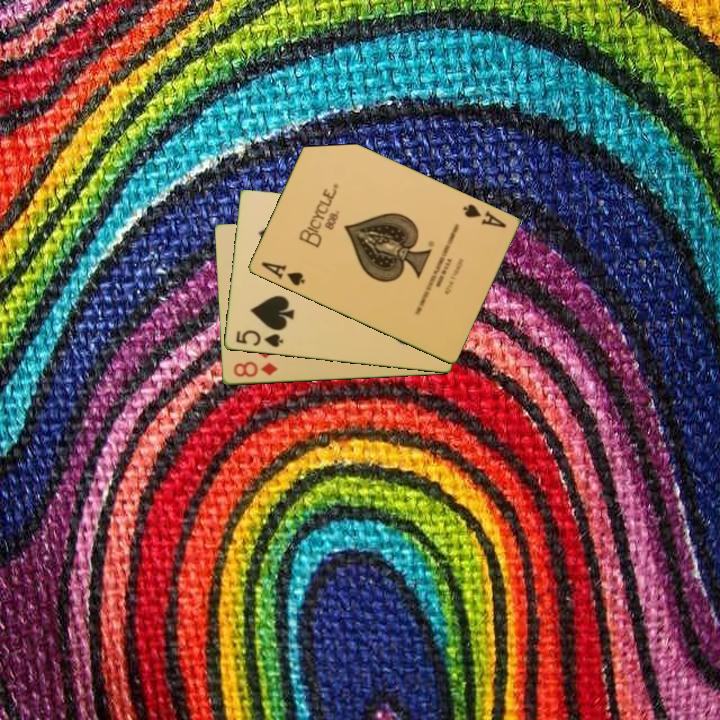5s: (232, 327, 286, 350)
8d: (230, 358, 280, 380)
As: (257, 258, 308, 289), (459, 200, 509, 231)
